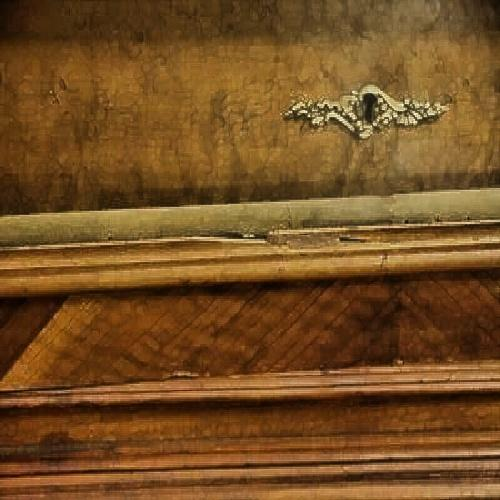cabinet: (17, 20, 483, 472)
